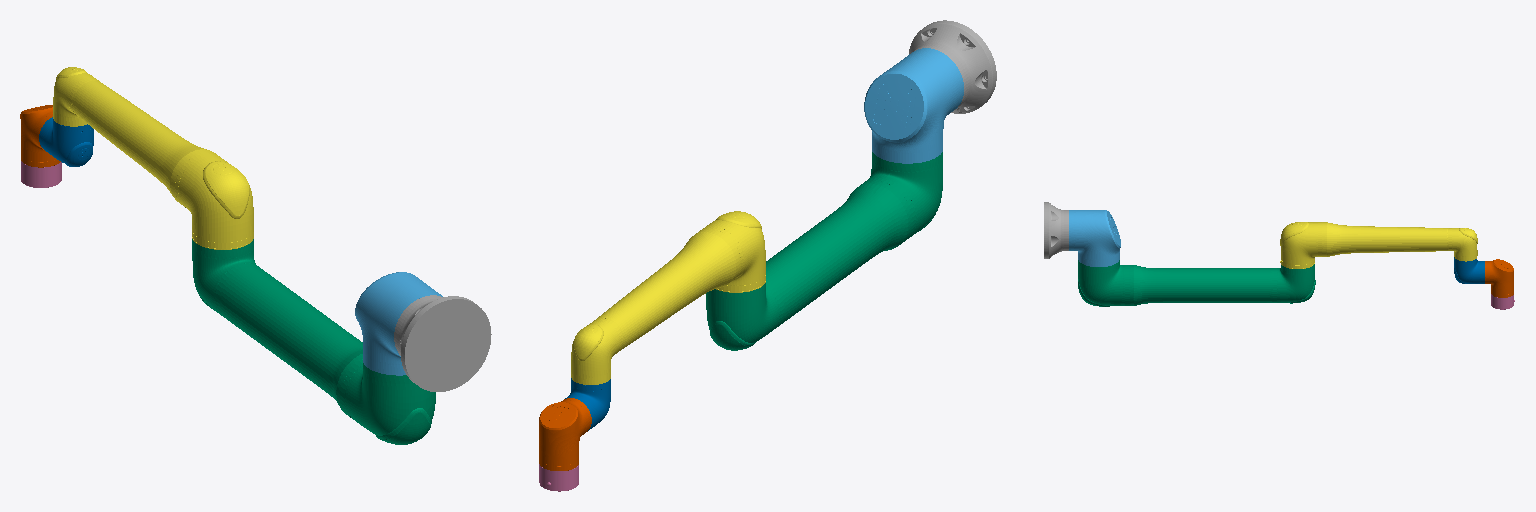
URDF robot description (UR20):
<?xml version='1.0' encoding='utf-8'?>
<robot name="UR20">
    <!-- FIX: Added a new, empty base link to act as the root -->
    <link name="base_link"/>

    <!-- FIX: Added a fixed joint to connect the new base to your first component -->
    <joint name="base_link_to_C-2003903" type="fixed">
        <parent link="base_link"/>
        <child link="C-2003903"/>
        <origin rpy="0 0 0" xyz="0 0 0"/>
    </joint>

    <link name="C-2003904">
        <inertial>
            <origin xyz="8.582280121082671e-06 0.02632702725116417 0.10594826441464056" rpy="0.0 -0.0 0.0" />
            <mass value="51.11436118999412" />
            <inertia ixx="0.3337342332377551" iyy="0.2728286048846069" izz="0.2819464759288838" ixy="-9.10098319923277e-05" iyz="-0.0403448732134169" ixz="-9.030484287795087e-05" />
        </inertial>
        <visual name="C-2003904_visual">
            <origin xyz="0.0 6.938893903907228e-18 5.329070518200751e-17" rpy="1.5707963267948966 -0.0 0.0" />
            <geometry>
                <mesh filename="meshes/C-2003904.stl" scale="0.001 0.001 0.001" />
            </geometry>
        </visual>
        <collision name="C-2003904_collision">
            <origin xyz="0.0 6.938893903907228e-18 5.329070518200751e-17" rpy="1.5707963267948966 -0.0 0.0" />
            <geometry>
                <mesh filename="meshes/C-2003904.stl" scale="0.001 0.001 0.001" />
            </geometry>
        </collision>
    </link>
    <link name="C-2003905">
        <inertial>
            <origin xyz="-1.061607639901815e-07 -0.38327795729635017 0.11836234191910082" rpy="0.0 -0.0 0.0" />
            <mass value="169.645679294902" />
            <inertia ixx="16.546097013818397" iyy="0.6639170169023512" izz="16.432642115533838" ixy="1.815751062667857e-05" iyz="0.145188364728849" ixz="-3.135710589186512e-06" />
        </inertial>
        <visual name="C-2003905_visual">
            <origin xyz="1.734723475976807e-17 7.105427357601002e-17 0.12889999999999993" rpy="3.141592653589793 -0.0 0.0" />
            <geometry>
                <mesh filename="meshes/C-2003905.stl" scale="0.001 0.001 0.001" />
            </geometry>
        </visual>
        <collision name="C-2003905_collision">
            <origin xyz="1.734723475976807e-17 7.105427357601002e-17 0.12889999999999993" rpy="3.141592653589793 -0.0 0.0" />
            <geometry>
                <mesh filename="meshes/C-2003905.stl" scale="0.001 0.001 0.001" />
            </geometry>
        </collision>
    </link>
    <link name="C-2003906">
        <inertial>
            <origin xyz="1.989003974763035e-08 0.27618672731410715 0.0989329272652019" rpy="0.0 -0.0 0.0" />
            <mass value="83.42927034414129" />
            <inertia ixx="5.295734452525579" iyy="0.21019538414851222" izz="5.257905701695876" ixy="4.911257376964472e-06" iyz="-0.08578535814387589" ixz="2.2970049657263522e-06" />
        </inertial>
        <visual name="C-2003906_visual">
            <origin xyz="5.068563033235417e-17 7.105427357601002e-16 0.10750000000000282" rpy="0.0 -0.0 0.0" />
            <geometry>
                <mesh filename="meshes/C-2003906.stl" scale="0.001 0.001 0.001" />
            </geometry>
        </visual>
        <collision name="C-2003906_collision">
            <origin xyz="5.068563033235417e-17 7.105427357601002e-16 0.10750000000000282" rpy="0.0 -0.0 0.0" />
            <geometry>
                <mesh filename="meshes/C-2003906.stl" scale="0.001 0.001 0.001" />
            </geometry>
        </collision>
    </link>
    <link name="C-2003907">
        <inertial>
            <origin xyz="1.162011552490492e-08 -0.01717062677092713 0.062392350798078304" rpy="0.0 -0.0 0.0" />
            <mass value="9.51992176071133" />
            <inertia ixx="0.02170450532526047" iyy="0.01604214587143854" izz="0.017461608752668667" ixy="3.5431493803636145e-07" iyz="0.0025756049489737975" ixz="-3.461439637378337e-07" />
        </inertial>
        <visual name="C-2003907_visual">
            <origin xyz="-7.699724682637784e-18 -5.684341886080802e-16 0.07639999999999723" rpy="3.141592653589793 -0.0 0.0" />
            <geometry>
                <mesh filename="meshes/C-2003907.stl" scale="0.001 0.001 0.001" />
            </geometry>
        </visual>
        <collision name="C-2003907_collision">
            <origin xyz="-7.699724682637784e-18 -5.684341886080802e-16 0.07639999999999723" rpy="3.141592653589793 -0.0 0.0" />
            <geometry>
                <mesh filename="meshes/C-2003907.stl" scale="0.001 0.001 0.001" />
            </geometry>
        </collision>
    </link>
    <link name="C-2003908">
        <inertial>
            <origin xyz="-4.3997827033215e-06 0.023880833083526447 0.06335976700510684" rpy="0.0 -0.0 0.0" />
            <mass value="10.51789415206753" />
            <inertia ixx="0.026860651545739245" iyy="0.017805836125596386" izz="0.022935495474472156" ixy="-5.460522182805797e-06" iyz="-0.0037712171357187074" ixz="-4.7578428078395185e-06" />
        </inertial>
        <visual name="C-2003908_visual">
            <origin xyz="-6.8400087045674564e-15 -3.836930773104541e-15 0.07640000000000044" rpy="1.5707963267948966 -0.0 0.0" />
            <geometry>
                <mesh filename="meshes/C-2003908.stl" scale="0.001 0.001 0.001" />
            </geometry>
        </visual>
        <collision name="C-2003908_collision">
            <origin xyz="-6.8400087045674564e-15 -3.836930773104541e-15 0.07640000000000044" rpy="1.5707963267948966 -0.0 0.0" />
            <geometry>
                <mesh filename="meshes/C-2003908.stl" scale="0.001 0.001 0.001" />
            </geometry>
        </collision>
    </link>
    <link name="C-2007588">
        <inertial>
            <origin xyz="-2.0607734918683444e-08 2.928020997785552e-06 0.027097992961663236" rpy="0.0 -0.0 0.0" />
            <mass value="3.324383416151438" />
            <inertia ixx="0.0029447821487131876" iyy="0.0029435860436189953" izz="0.004233500213370434" ixy="-3.5867105967006426e-09" iyz="-1.998691760540794e-06" ixz="7.025859658351512e-10" />
        </inertial>
        <visual name="C-2007588_visual">
            <origin xyz="2.6645352591003757e-15 0.22729999999998995 -0.25750000000038237" rpy="-1.570796326794897 -1.95526018874273e-13 1.5707963267948966" />
            <geometry>
                <mesh filename="meshes/C-2007588.stl" scale="0.001 0.001 0.001" />
            </geometry>
        </visual>
        <collision name="C-2007588_collision">
            <origin xyz="2.6645352591003757e-15 0.22729999999998995 -0.25750000000038237" rpy="-1.570796326794897 -1.95526018874273e-13 1.5707963267948966" />
            <geometry>
                <mesh filename="meshes/C-2007588.stl" scale="0.001 0.001 0.001" />
            </geometry>
        </collision>
    </link>
    <link name="C-2003903">
        <inertial>
            <origin xyz="-8.59443752031847e-12 0.04640297417413969 1.8005554632068732e-10" rpy="0.0 0.0 0.0" />
            <mass value="28.046487516683325" />
            <inertia ixx="0.10651483485876435" iyy="0.15854885249715941" izz="0.1065146037107443" ixy="1.3169941045882529e-12" iyz="-6.283164246444758e-12" ixz="-1.1248742700237944e-10" />
        </inertial>
        <visual name="C-2003903_visual">
            <origin xyz="0.0 0.0 0.0" rpy="0.0 0.0 0.0" />
            <geometry>
                <mesh filename="meshes/C-2003903.stl" scale="0.001 0.001 0.001" />
            </geometry>
        </visual>
        <collision name="C-2003903_collision">
            <origin xyz="0.0 0.0 0.0" rpy="0.0 0.0 0.0" />
            <geometry>
                <mesh filename="meshes/C-2003903.stl" scale="0.001 0.001 0.001" />
            </geometry>
        </collision>
    </link>
    <joint name="C-2003903_Revolute-1" type="continuous">
        <origin xyz="0.0 0.10740000000000001 0.0" rpy="-1.5707963267948966 -0.0 0.0" />
        <parent link="C-2003903" />
        <child link="C-2003904" />
        <axis xyz="0.0 0.0 1.0" />
    </joint>
    <joint name="C-2003904_Revolute-2" type="continuous">
        <origin xyz="0.0 0.134 0.1289" rpy="-1.5707963267948966 -0.0 0.0" />
        <parent link="C-2003904" />
        <child link="C-2003905" />
        <axis xyz="0.0 -0.0 1.0" />
    </joint>
    <joint name="C-2003905_Revolute-3" type="continuous">
        <origin xyz="0.0 -0.8620000000000001 0.0167" rpy="3.141592653589793 -0.0 0.0" />
        <parent link="C-2003905" />
        <child link="C-2003906" />
        <axis xyz="0.0 0.0 1.0" />
    </joint>
    <joint name="C-2003906_Revolute-4" type="continuous">
        <origin xyz="0.0 0.7286999999999999 0.026099999999999995" rpy="3.141592653589793 -0.0 0.0" />
        <parent link="C-2003906" />
        <child link="C-2003907" />
        <axis xyz="0.0 0.0 1.0" />
    </joint>
    <joint name="C-2003907_Revolute-5" type="continuous">
        <origin xyz="0.0 -0.08290000000000021 0.07640000000000001" rpy="1.5707963267948966 -0.0 0.0" />
        <parent link="C-2003907" />
        <child link="C-2003908" />
        <axis xyz="0.0 0.0 1.0" />
    </joint>
    <joint name="C-2003908_Revolute-6" type="continuous">
        <origin xyz="0.0 0.09820000000000001 0.07639999999999987" rpy="-1.5707963267948966 -0.0 0.0" />
        <parent link="C-2003908" />
        <child link="C-2007588" />
        <axis xyz="0.0 0.0 1.0" />
    </joint>
</robot>

--- Render facts (derived) ---
The picture shows the robot from 3 angles, left to right: view 1: azimuth 30°, elevation 25°; view 2: azimuth 150°, elevation 25°; view 3: azimuth 270°, elevation 25°; orthographic projection.
Model UR20 with 8 links and 7 joints (6 continuous, 1 fixed), rooted at base_link, posed all joints at 0.
Visible links, largest first — view 1: C-2003905, C-2003906, C-2003903, C-2003904, C-2003907, C-2003908, C-2007588; view 2: C-2003905, C-2003906, C-2003904, C-2003903, C-2003908, C-2003907, C-2007588; view 3: C-2003905, C-2003906, C-2003904, C-2003903, C-2003908, C-2003907.
Link boxes in pixels (box(x1,y1,x2,y2)): C-2003905: box(192, 239, 435, 444); C-2003906: box(53, 67, 253, 249); C-2003903: box(394, 295, 491, 391); C-2003904: box(355, 272, 442, 375); C-2003907: box(39, 117, 93, 166); C-2003908: box(20, 105, 60, 167); C-2007588: box(21, 161, 61, 187); C-2003905: box(706, 152, 942, 350); C-2003906: box(571, 211, 765, 384); C-2003904: box(864, 48, 963, 163); C-2003903: box(909, 20, 996, 113); C-2003908: box(539, 398, 591, 470); C-2003907: box(565, 378, 610, 430); C-2007588: box(539, 464, 578, 491); C-2003905: box(1078, 260, 1315, 306); C-2003906: box(1280, 222, 1477, 268); C-2003904: box(1069, 210, 1120, 266); C-2003903: box(1044, 202, 1068, 258); C-2003908: box(1485, 259, 1513, 297); C-2003907: box(1454, 257, 1484, 283).
Size in the robot's own frame: 0.245 by 2.04 by 0.4795 metres.
7 mesh visuals loaded from 7 distinct referenced files (7 binary STL).
